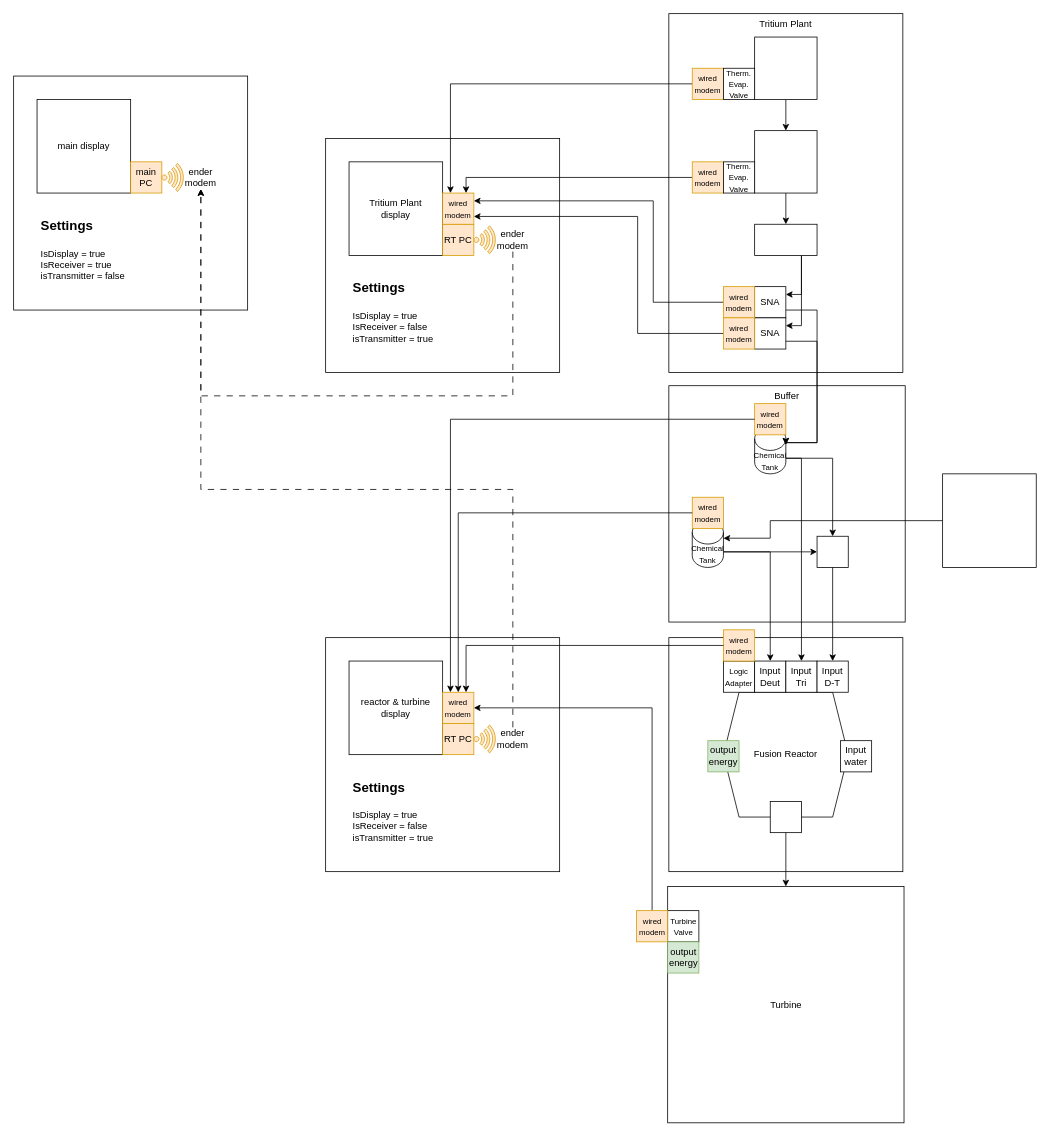
This 1050x1136 diagram has some shape labels left out. The shapes that lost their labels are listed below. From the top down, each one's centre as x and y in pixels, then its label:
the point at 785,67: Themal Evaporation Plant (Brine)
the point at 785,161: Themal Evaporation Plant (Lithium)
the point at 785,239: Condensentrators
the point at 989,520: Deuterium Production (not monitored)
the point at 832,551: chem. infuser
the point at 785,817: output steam
